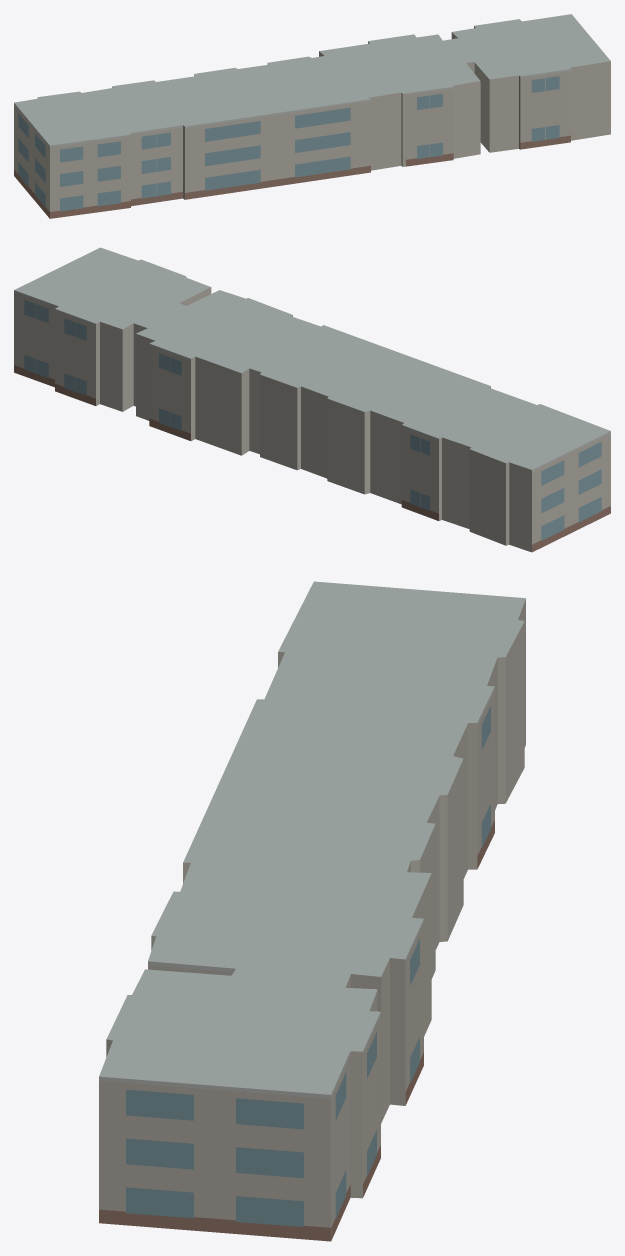
File: survey-upis-32470405.glb
3 renders of one model, top to bottom at view 1: azimuth 30°, elevation 25°; view 2: azimuth 150°, elevation 25°; view 3: azimuth 270°, elevation 25°, orthographic. The views are drawn at different scales.
Visible parts, largest first — view 1: survey-upis-32470405.tmp; view 2: survey-upis-32470405.tmp; view 3: survey-upis-32470405.tmp.
Boxes of the visible parts, bbox=[...] form: survey-upis-32470405.tmp: bbox=[14, 14, 610, 218]; survey-upis-32470405.tmp: bbox=[14, 247, 610, 552]; survey-upis-32470405.tmp: bbox=[99, 581, 525, 1241].
Bounding box in the file's own units: 68.73 × 9.15 × 24.15.
